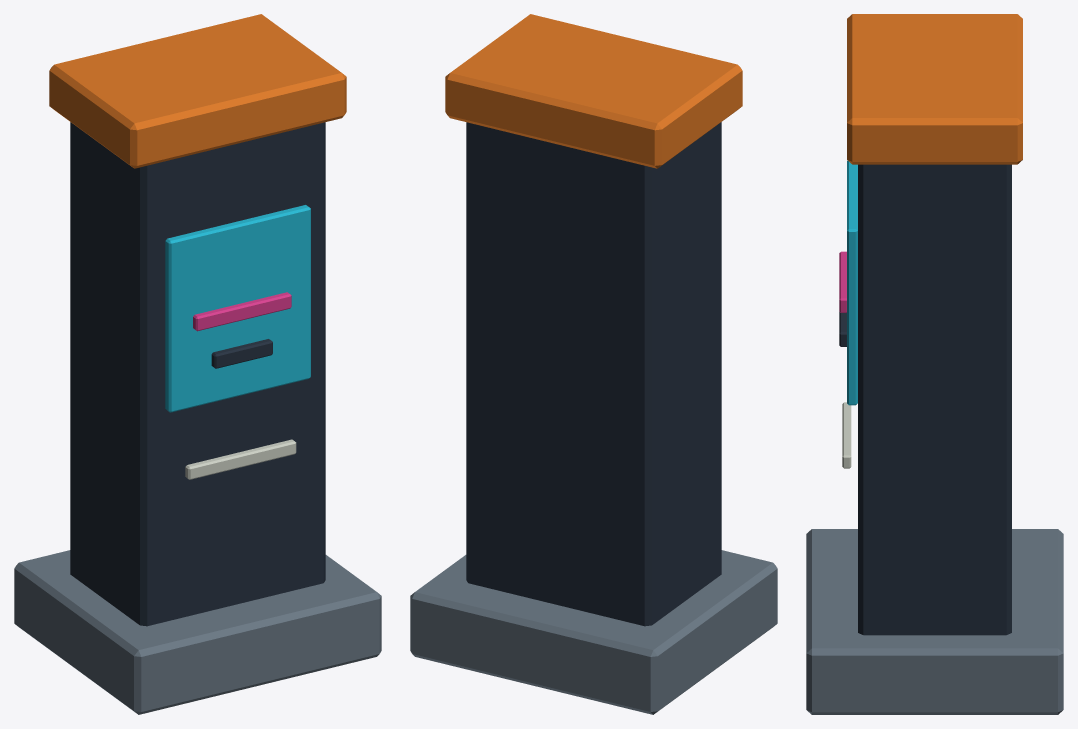
File: quota-terminal.glb
3 renders of one model, left to right at view 1: azimuth 30°, elevation 25°; view 2: azimuth 150°, elevation 25°; view 3: azimuth 270°, elevation 25°, orthographic. The views are drawn at different scales.
Visible parts, largest first — view 1: quota-terminal_Body; view 2: quota-terminal_Body; view 3: quota-terminal_Body.
Part boxes in pixels (box(x1,y1,x2,y2)): quota-terminal_Body: box(14, 14, 381, 714); quota-terminal_Body: box(410, 14, 777, 714); quota-terminal_Body: box(806, 14, 1063, 714).
Bounding box in the file's own units: 0.8 × 1.77 × 0.7.
